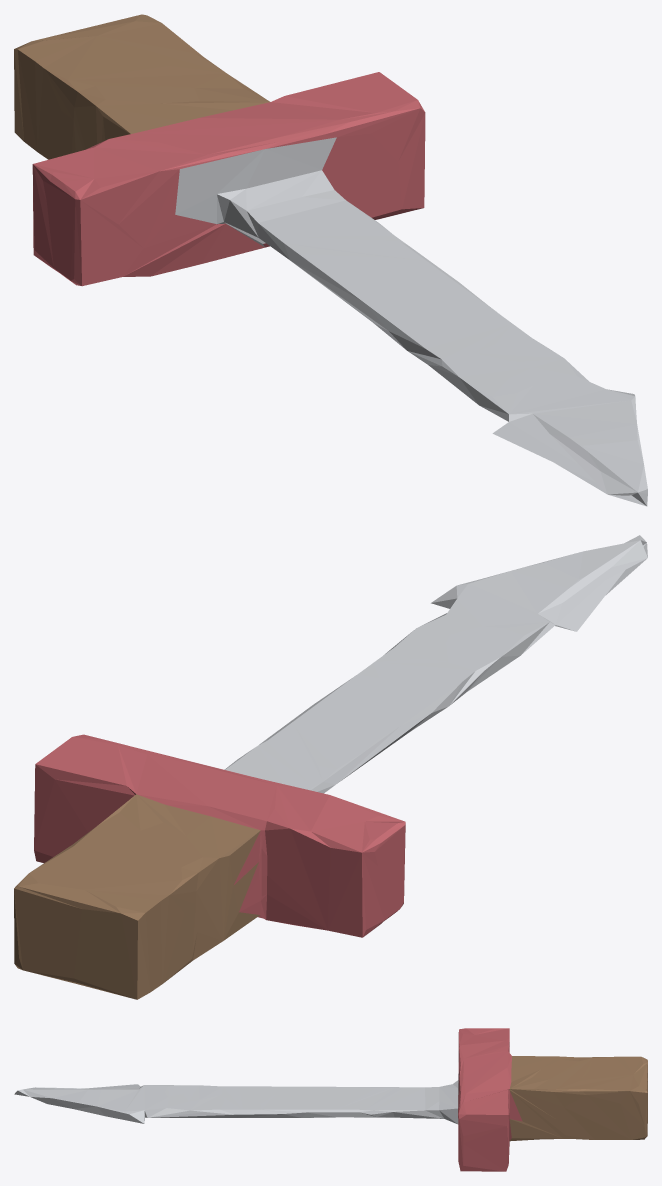
File: dagger.glb
3 views of the same model, one above another, from view 1: azimuth 30°, elevation 25°; view 2: azimuth 150°, elevation 25°; view 3: azimuth 270°, elevation 25° (orthographic). The views are drawn at different scales.
Parts seen in each view (by area): view 1: dagger; view 2: dagger; view 3: dagger.
Part boxes in pixels (x1,y1,x2,y2): dagger: (14,14,647,506); dagger: (14,535,647,999); dagger: (14,1028,647,1171).
Bounding box in the file's own units: 0.2429 × 0.0707 × 0.7052.
